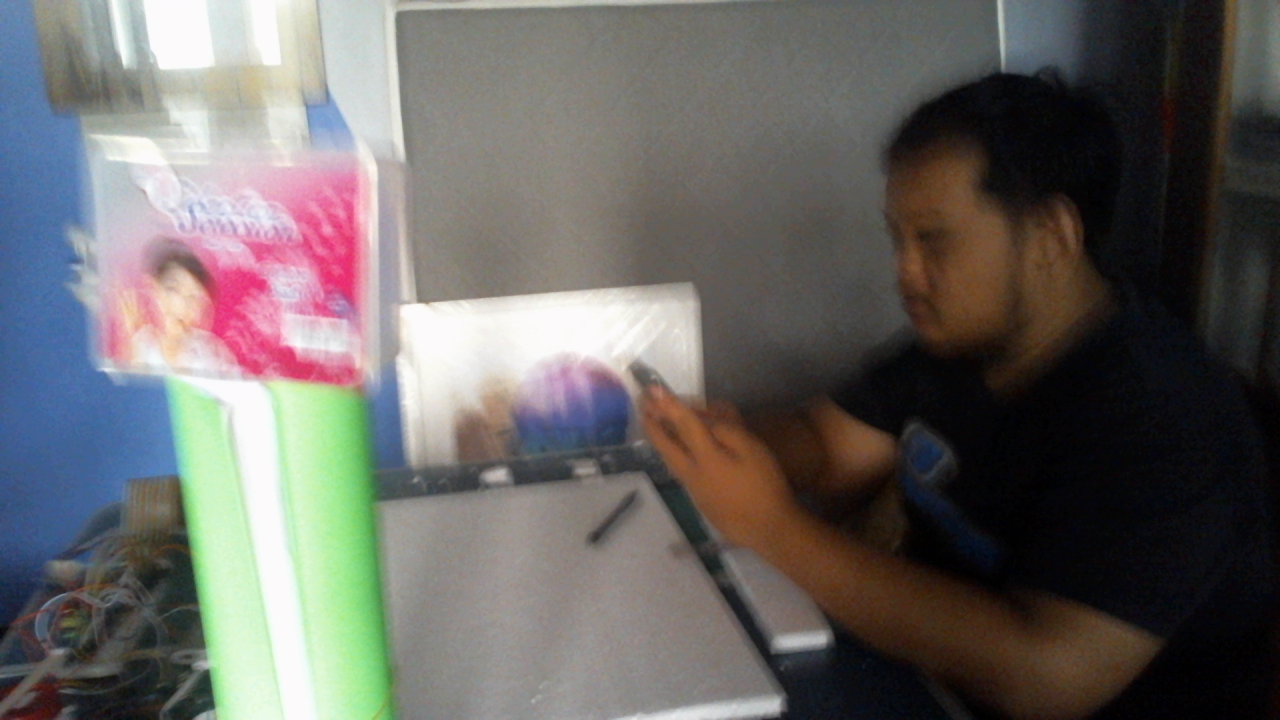Selection: (50, 106, 424, 420)
